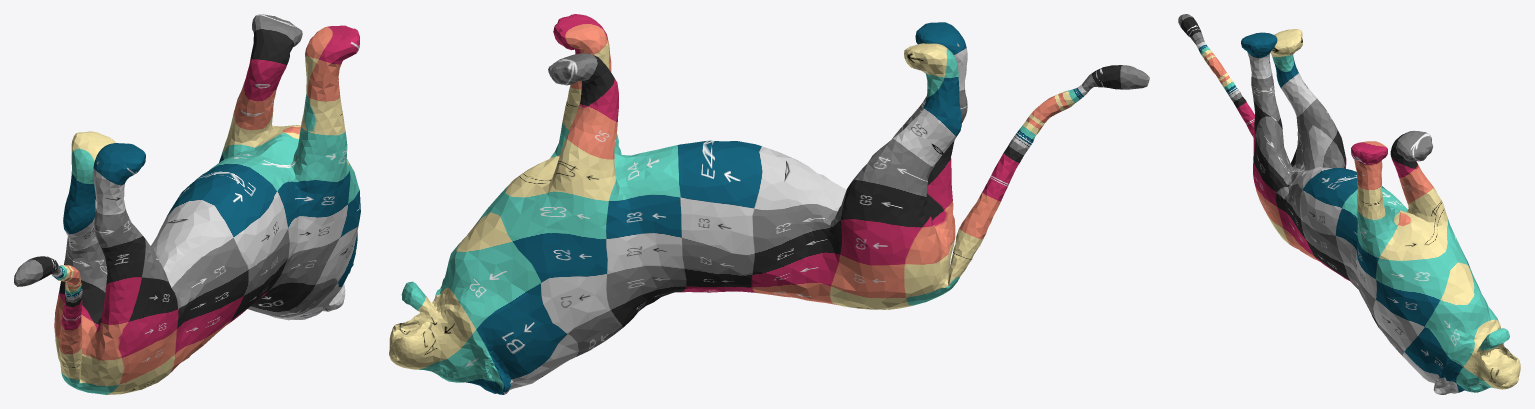
The model's file is cow_03-lion_02.obj.
3 renders of one model, left to right at view 1: azimuth 30°, elevation 25°; view 2: azimuth 150°, elevation 25°; view 3: azimuth 270°, elevation 25°, orthographic. The views are drawn at different scales.
Parts seen in each view (by area): view 1: cow_03-lion_02_export; view 2: cow_03-lion_02_export; view 3: cow_03-lion_02_export.
Boxes of the visible parts, x1,y1,x2,y2 form: cow_03-lion_02_export: (14,14,360,394); cow_03-lion_02_export: (389,14,1149,394); cow_03-lion_02_export: (1178,14,1520,394).
Size of the model in its own units: 1.04 by 0.6121 by 0.7757.
